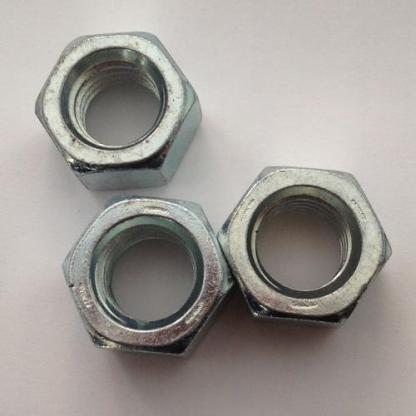FOD: (214, 161, 394, 327), (28, 26, 202, 196), (58, 198, 234, 358)
